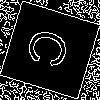C: (24, 25, 79, 74)
